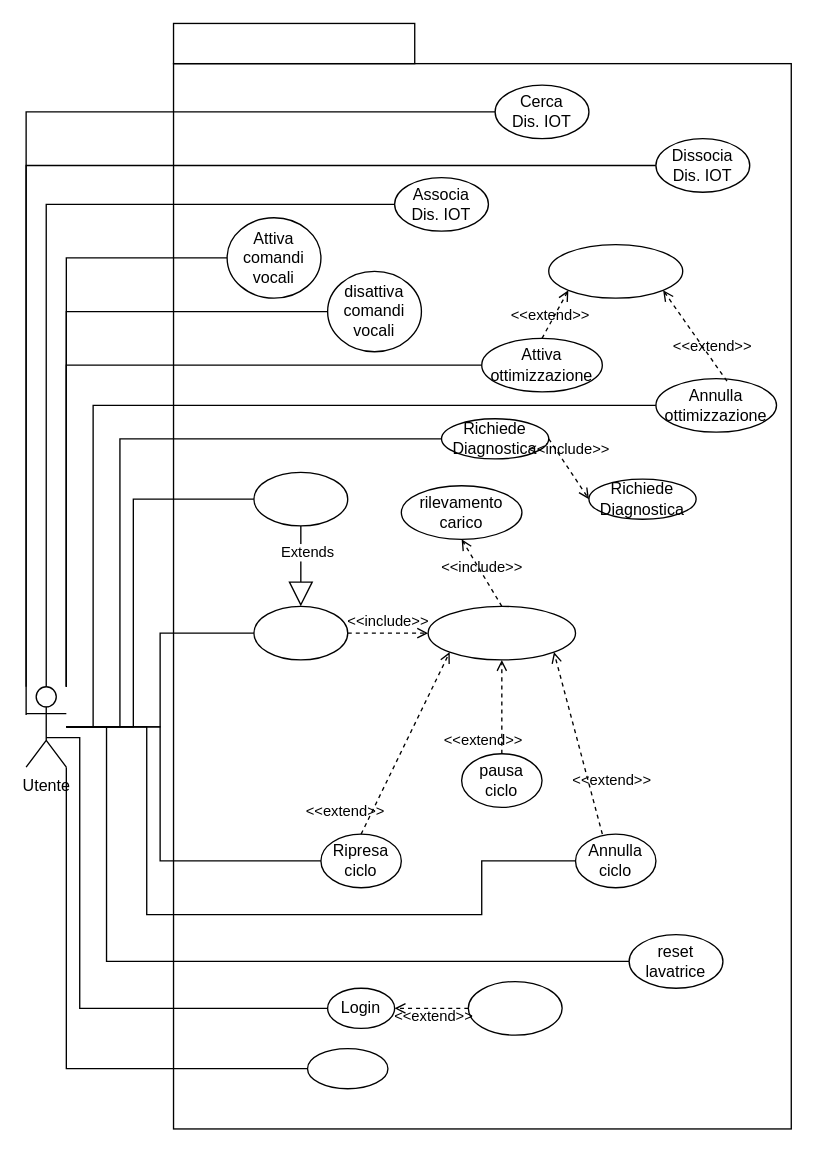
The diagram is 815 pixels wide and 1152 high, and some of its shapes have lost their labels. Each missing label, with the box of its shape:
avvia lavaggio: (253, 471, 348, 526)
Esecuzione ciclo di lavaggio: (427, 605, 576, 660)
logout: (306, 1047, 388, 1089)
ottimizzazione consumi IOT: (547, 243, 683, 298)
Pianifica lavaggio: (253, 605, 348, 660)
Recupero password: (467, 980, 562, 1035)
Sistema software lavatrice: (172, 22, 415, 64)
